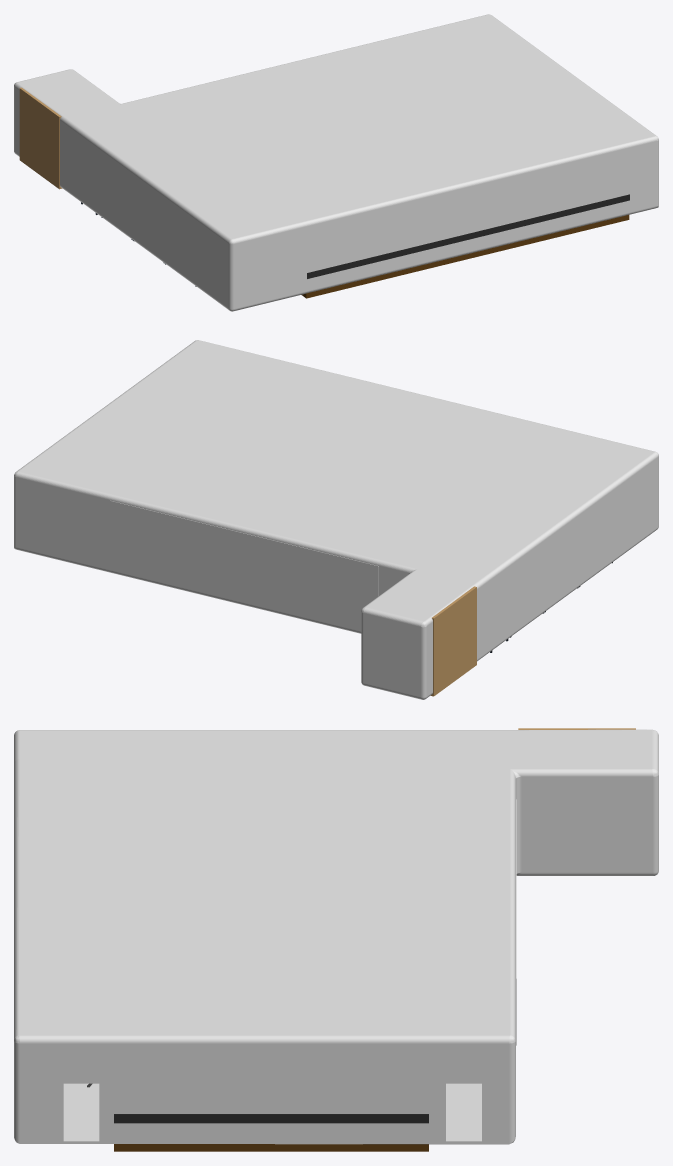
Rendered from MrKinneyInterrogationChamber.glb.
3 views of the same model, one above another, from view 1: azimuth 30°, elevation 25°; view 2: azimuth 150°, elevation 25°; view 3: azimuth 270°, elevation 25° (orthographic). The views are drawn at different scales.
Parts seen in each view (by area): view 1: classroom; view 2: classroom; view 3: classroom.
Part boxes in pixels (x1=…): classroom: x1=14, y1=14, x2=658, y2=311; classroom: x1=14, y1=340, x2=658, y2=699; classroom: x1=14, y1=728, x2=658, y2=1151.
Size of the model in its own units: 31.26 by 5.44 by 27.4.
